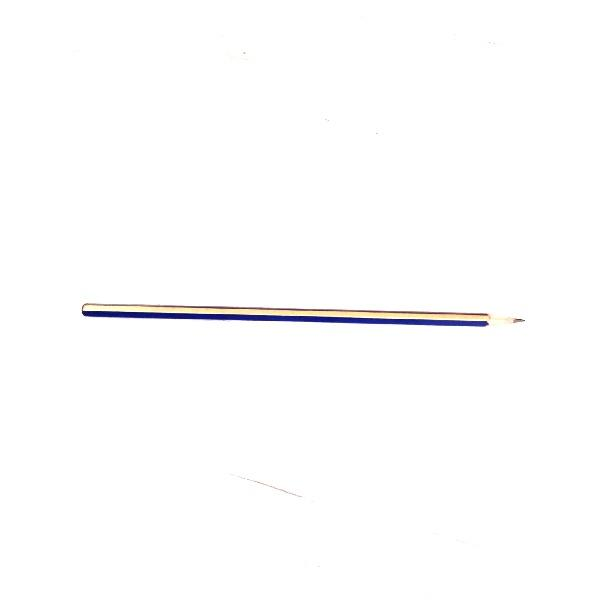pencil: (77, 298, 529, 332)
